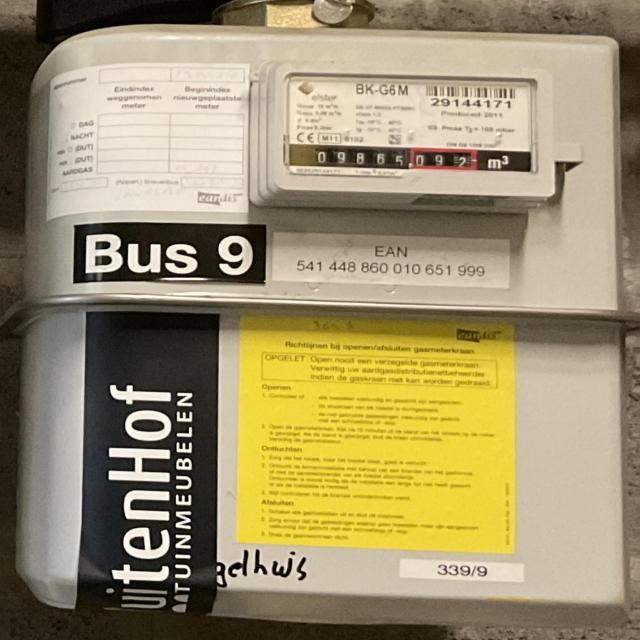gaz_meter: (286, 69, 538, 176)
indication: (291, 143, 483, 170)
